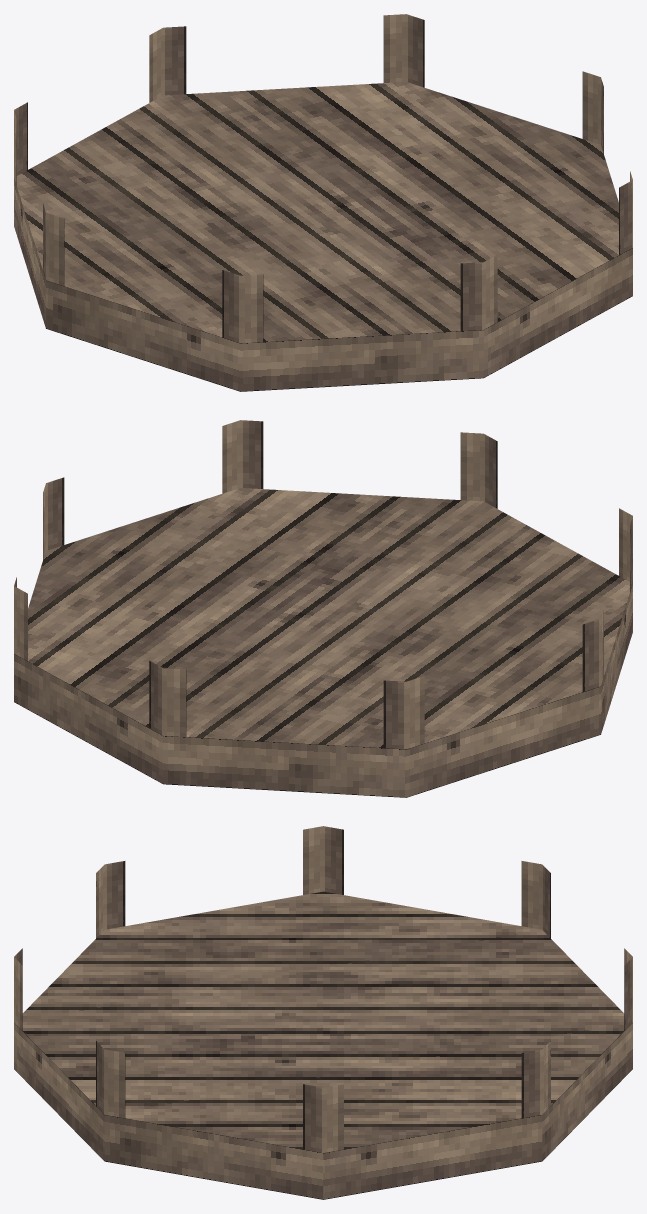
The model's file is overhang-round-railing.001_lev3.glb.
3 views of the same model, one above another, from view 1: azimuth 30°, elevation 25°; view 2: azimuth 150°, elevation 25°; view 3: azimuth 270°, elevation 25° (orthographic). The views are drawn at different scales.
Visible parts, largest first — view 1: overhang-round-railing.001_lev3; view 2: overhang-round-railing.001_lev3; view 3: overhang-round-railing.001_lev3.
Part boxes in pixels (<box>): overhang-round-railing.001_lev3: <box>14,14,632,391</box>; overhang-round-railing.001_lev3: <box>14,420,632,797</box>; overhang-round-railing.001_lev3: <box>14,826,632,1199</box>.
Bounding box in the file's own units: 13.82 × 2.76 × 13.82.
1 material, 1 textured.
